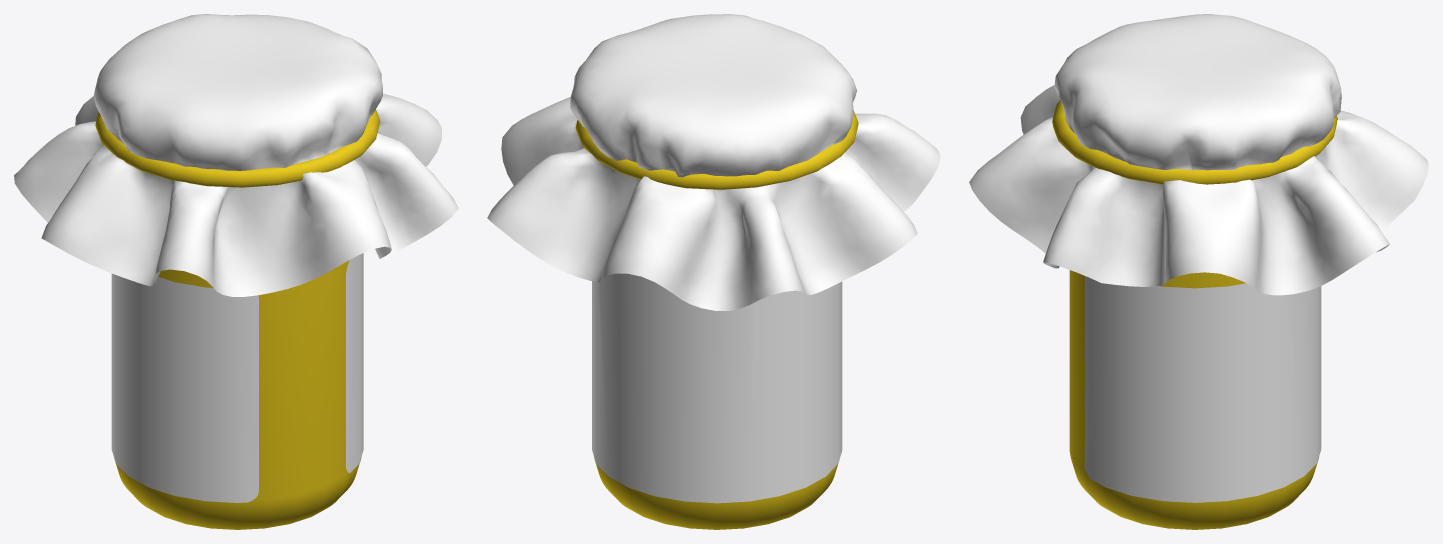
The model's file is BananaJam.fbx.
The picture shows the model from 3 angles, left to right: view 1: azimuth 30°, elevation 25°; view 2: azimuth 150°, elevation 25°; view 3: azimuth 270°, elevation 25°; orthographic projection.
Visible parts, largest first — view 1: 3d-model; view 2: 3d-model; view 3: 3d-model.
Boxes of the visible parts, x1,y1,x2,y2 form: 3d-model: (14, 14, 458, 529); 3d-model: (487, 14, 940, 529); 3d-model: (969, 14, 1428, 529).
Bounding box in the file's own units: 563 × 577 × 559.
